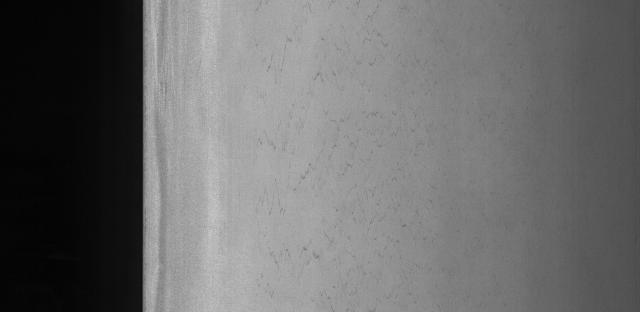silk_spot: (245, 10, 430, 284)
